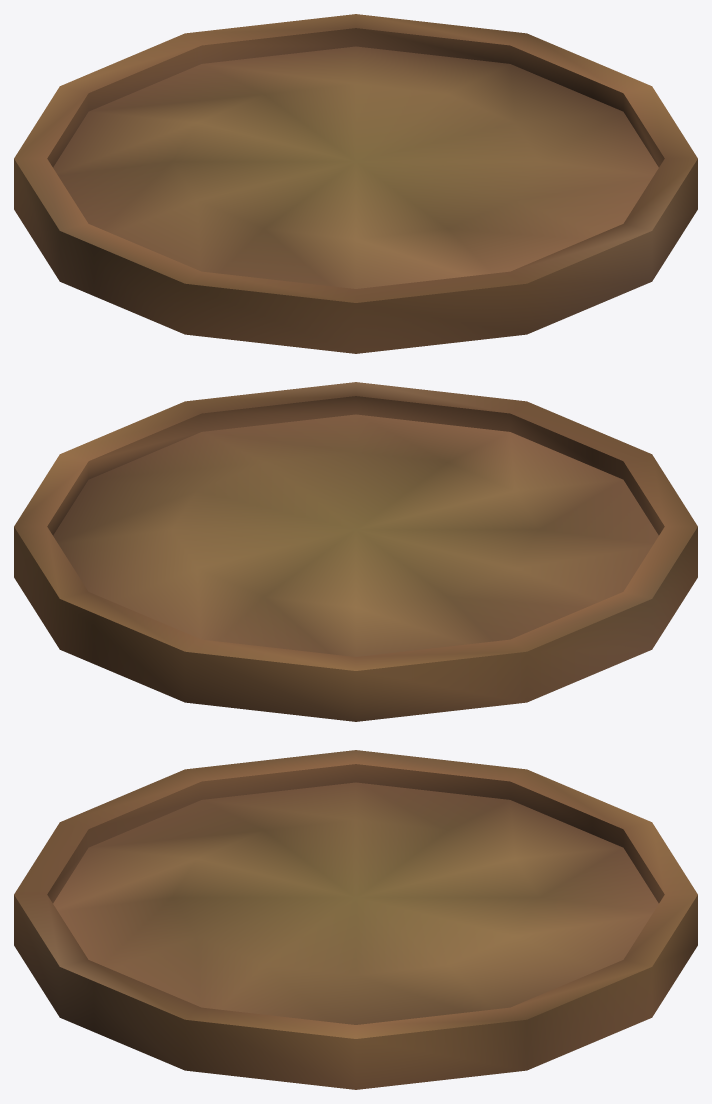
The model's file is human-household-items-coin_v1.glb.
3 views of the same model, one above another, from view 1: azimuth 30°, elevation 25°; view 2: azimuth 150°, elevation 25°; view 3: azimuth 270°, elevation 25° (orthographic).
Visible parts, largest first — view 1: Coin_v1; view 2: Coin_v1; view 3: Coin_v1.
Part boxes in pixels (x1,y1,x2,y2): Coin_v1: (14, 14, 697, 353); Coin_v1: (14, 382, 697, 721); Coin_v1: (14, 750, 697, 1089).
Bounding box in the file's own units: 0.025 × 0.00205 × 0.025.
